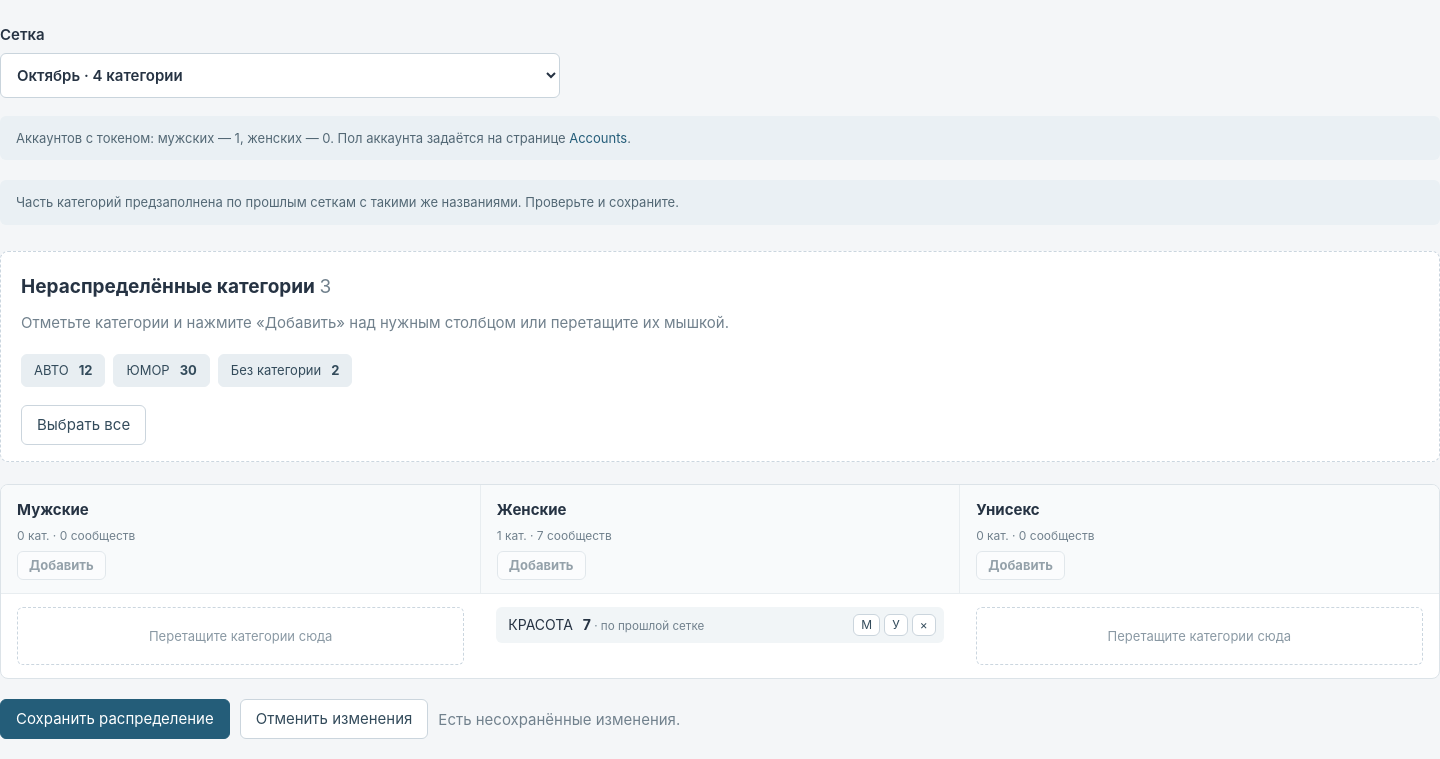
Test: asks which column to use for categories left unplaced
The width and height of the screenshot is (1440, 759).
(page scrolled)
Click the button "Сохранить распределение": {"x": 115, "y": 719} x1=0 y1=700 x2=230 y2=739
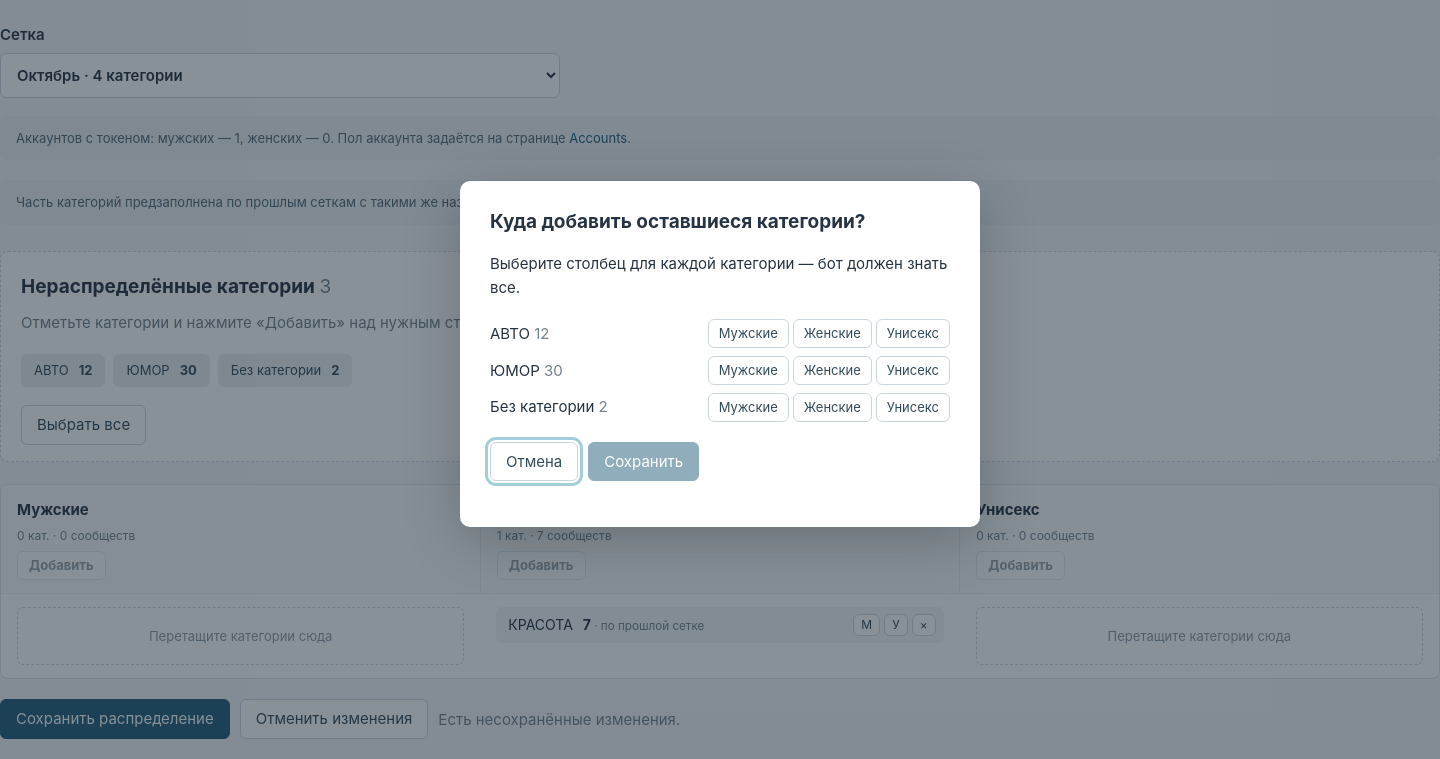
Check: the button "Сохранить" is disabled, box x1=588 y1=442 x2=699 y2=481
Click the 1st button "Мужские": {"x": 748, "y": 333} x1=708 y1=319 x2=789 y2=348
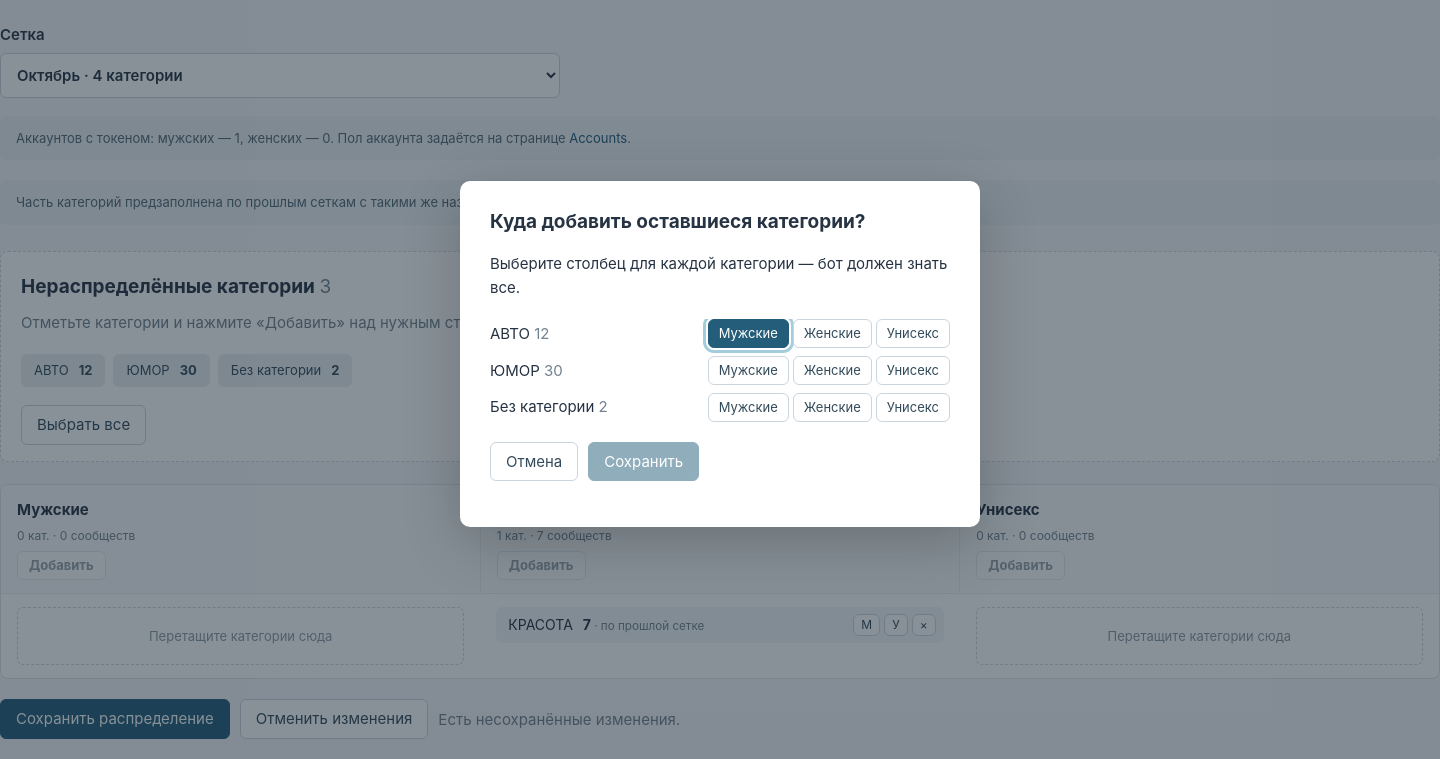
Click the 2nd button "Унисекс": {"x": 913, "y": 370} x1=876 y1=356 x2=950 y2=385
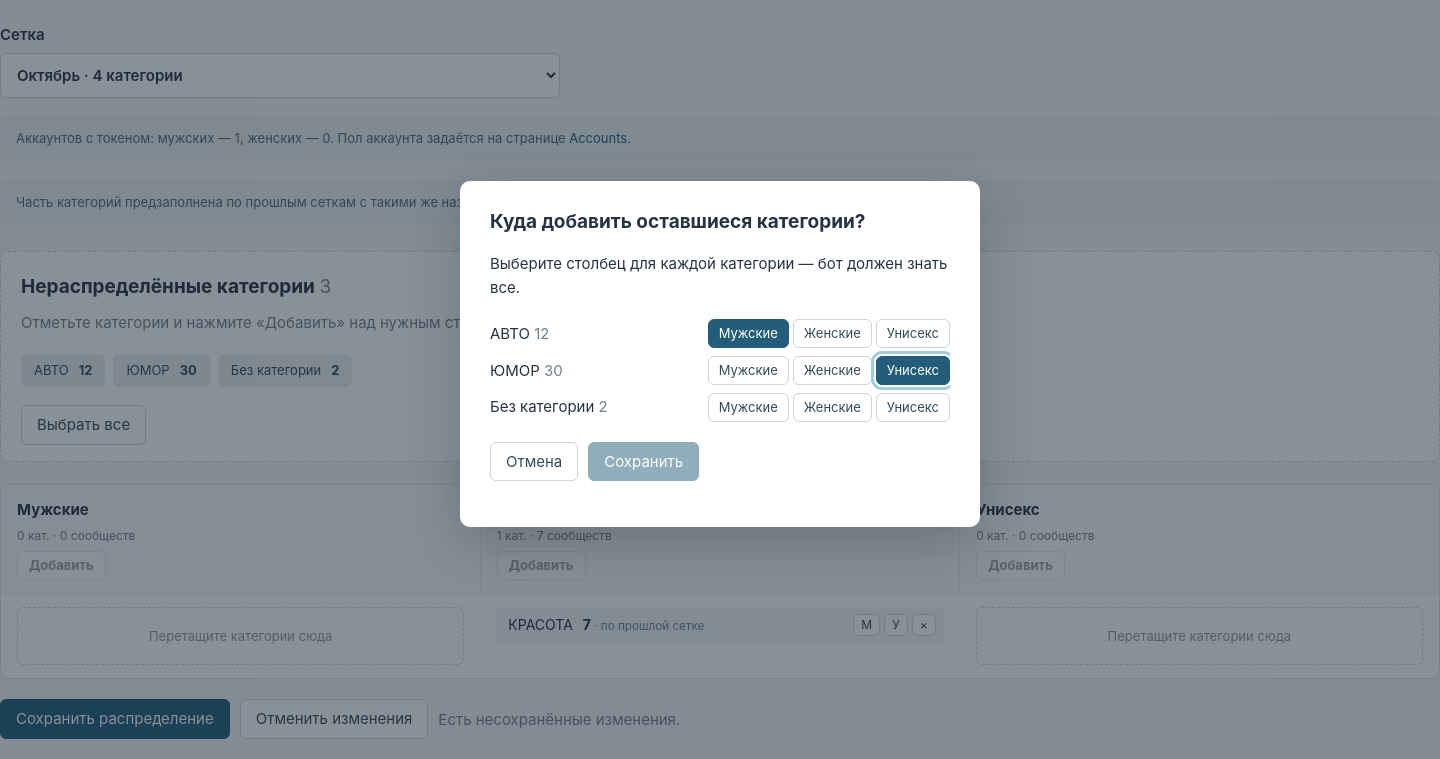
Click the 3rd button "Унисекс": {"x": 913, "y": 407} x1=876 y1=393 x2=950 y2=422
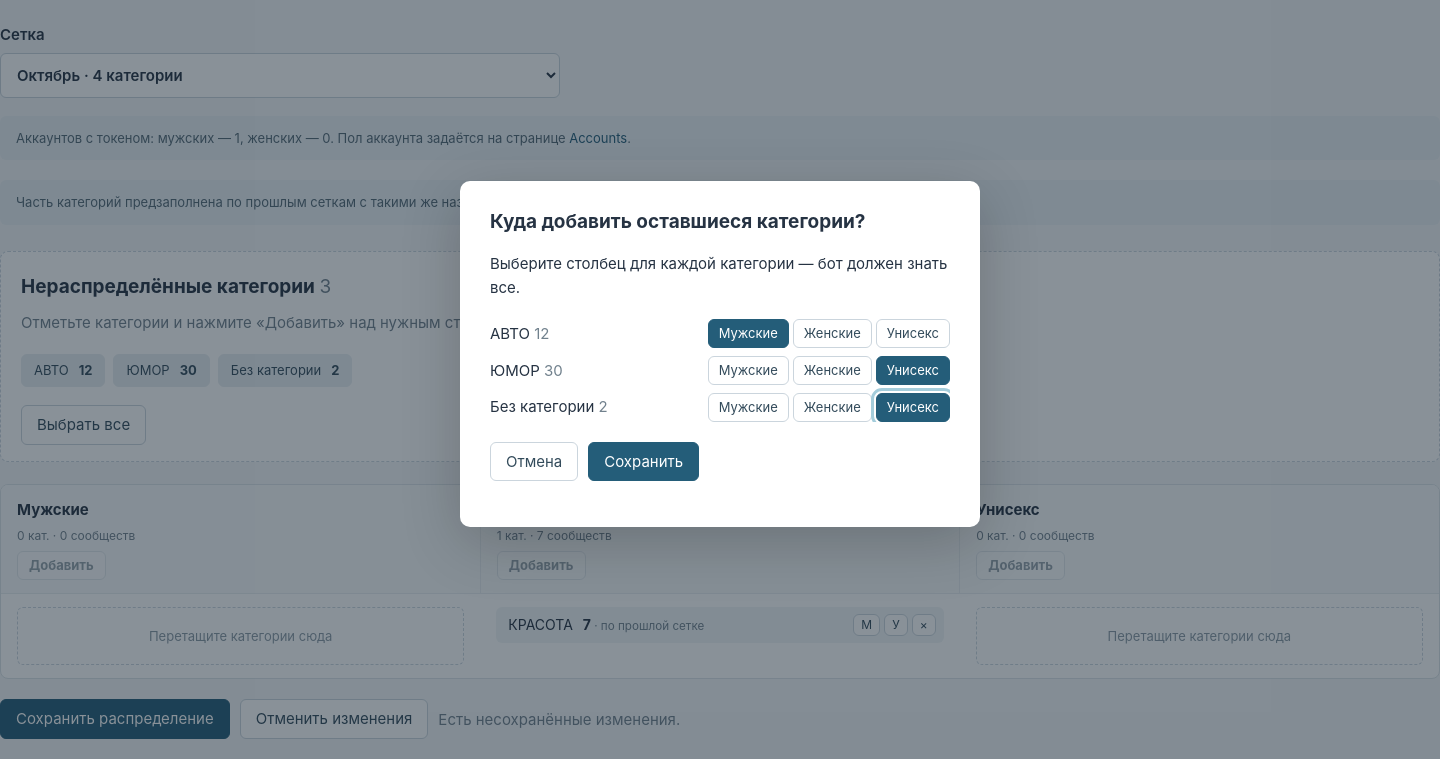
Click the button "Сохранить": {"x": 644, "y": 461} x1=588 y1=442 x2=699 y2=481
(page scrolled)
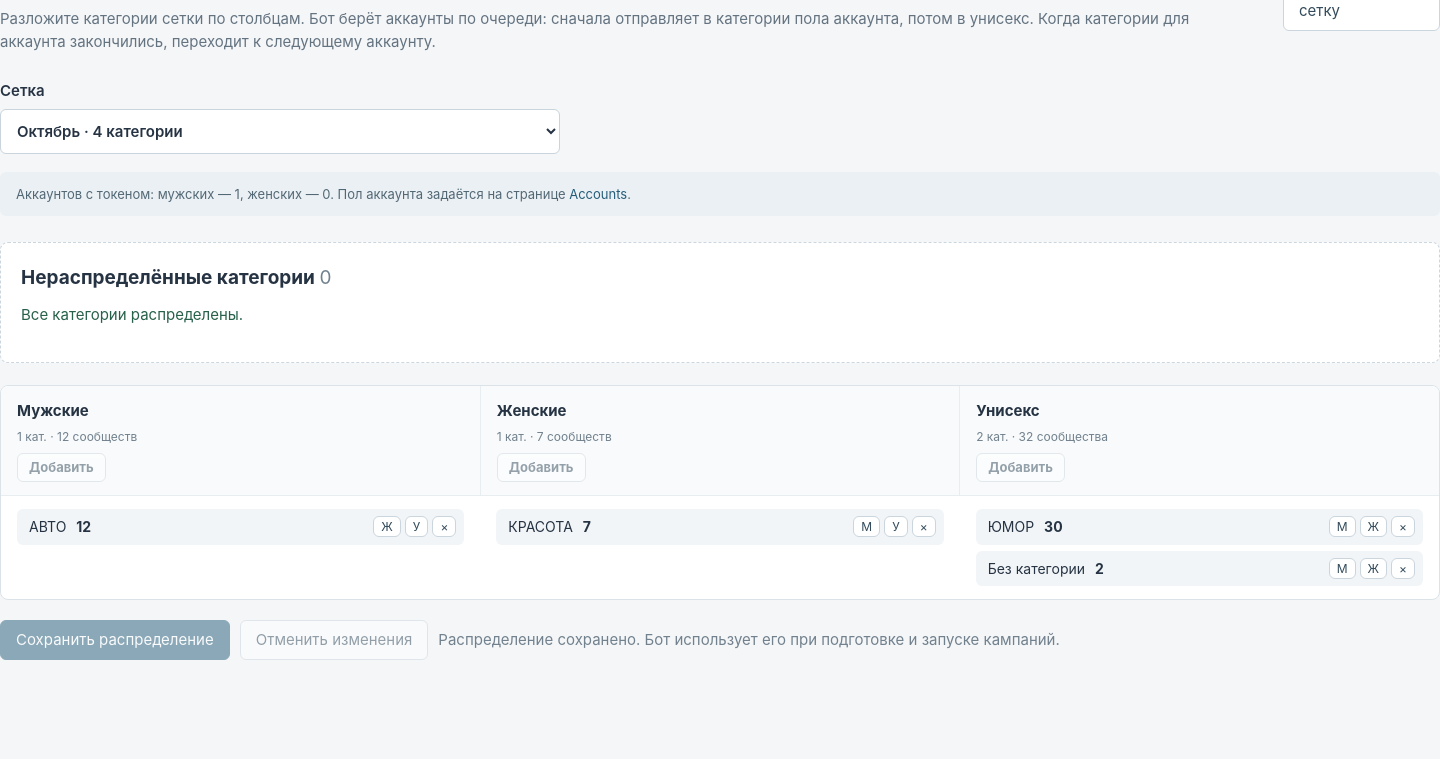
Check: the dialog is gone
Check: the text "Все категории распределены." is shown, box x1=21 y1=305 x2=243 y2=324
